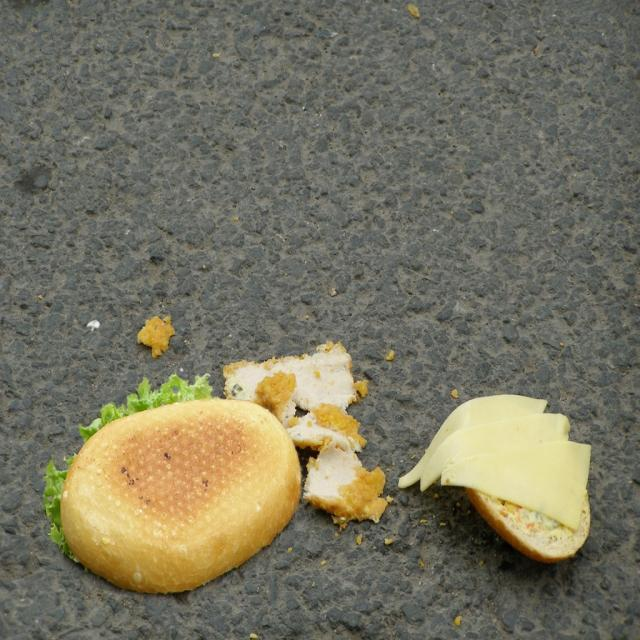Cheese: (442, 438, 593, 534), (396, 395, 546, 491), (419, 412, 571, 491)
